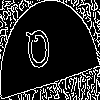Q: (25, 25, 53, 80)
